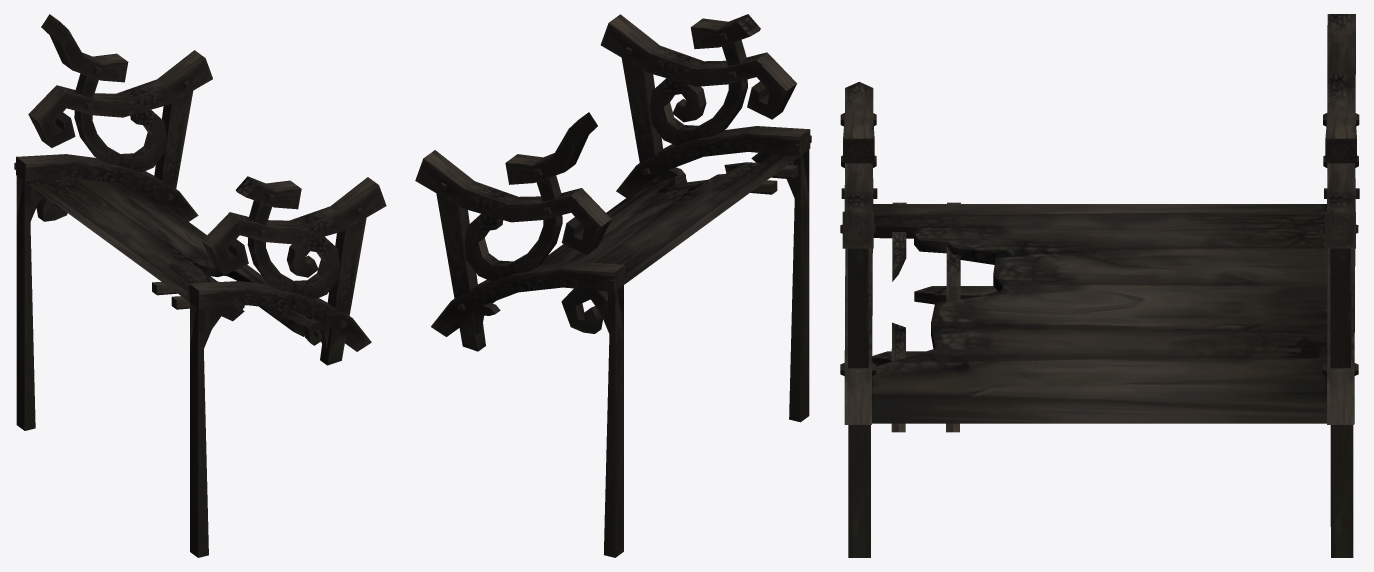
File: wooden_bridge_burnt_01_b.fbx
The picture shows the model from 3 angles, left to right: view 1: azimuth 30°, elevation 25°; view 2: azimuth 150°, elevation 25°; view 3: azimuth 270°, elevation 25°; orthographic projection. The views are drawn at different scales.
Parts seen in each view (by area): view 1: obj2.009; view 2: obj2.009; view 3: obj2.009.
Boxes of the visible parts, <box> form: obj2.009: <box>14,14,386,557</box>; obj2.009: <box>415,14,811,557</box>; obj2.009: <box>840,14,1359,557</box>.
Bounding box in the file's own units: 4.87 × 9.74 × 8.2.
